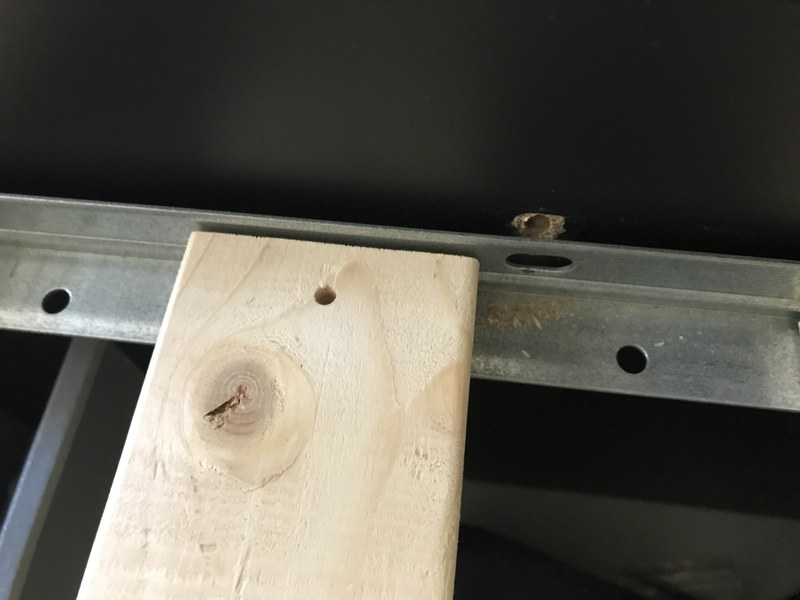hole: (614, 344, 649, 377), (36, 288, 74, 316), (313, 283, 338, 308)
